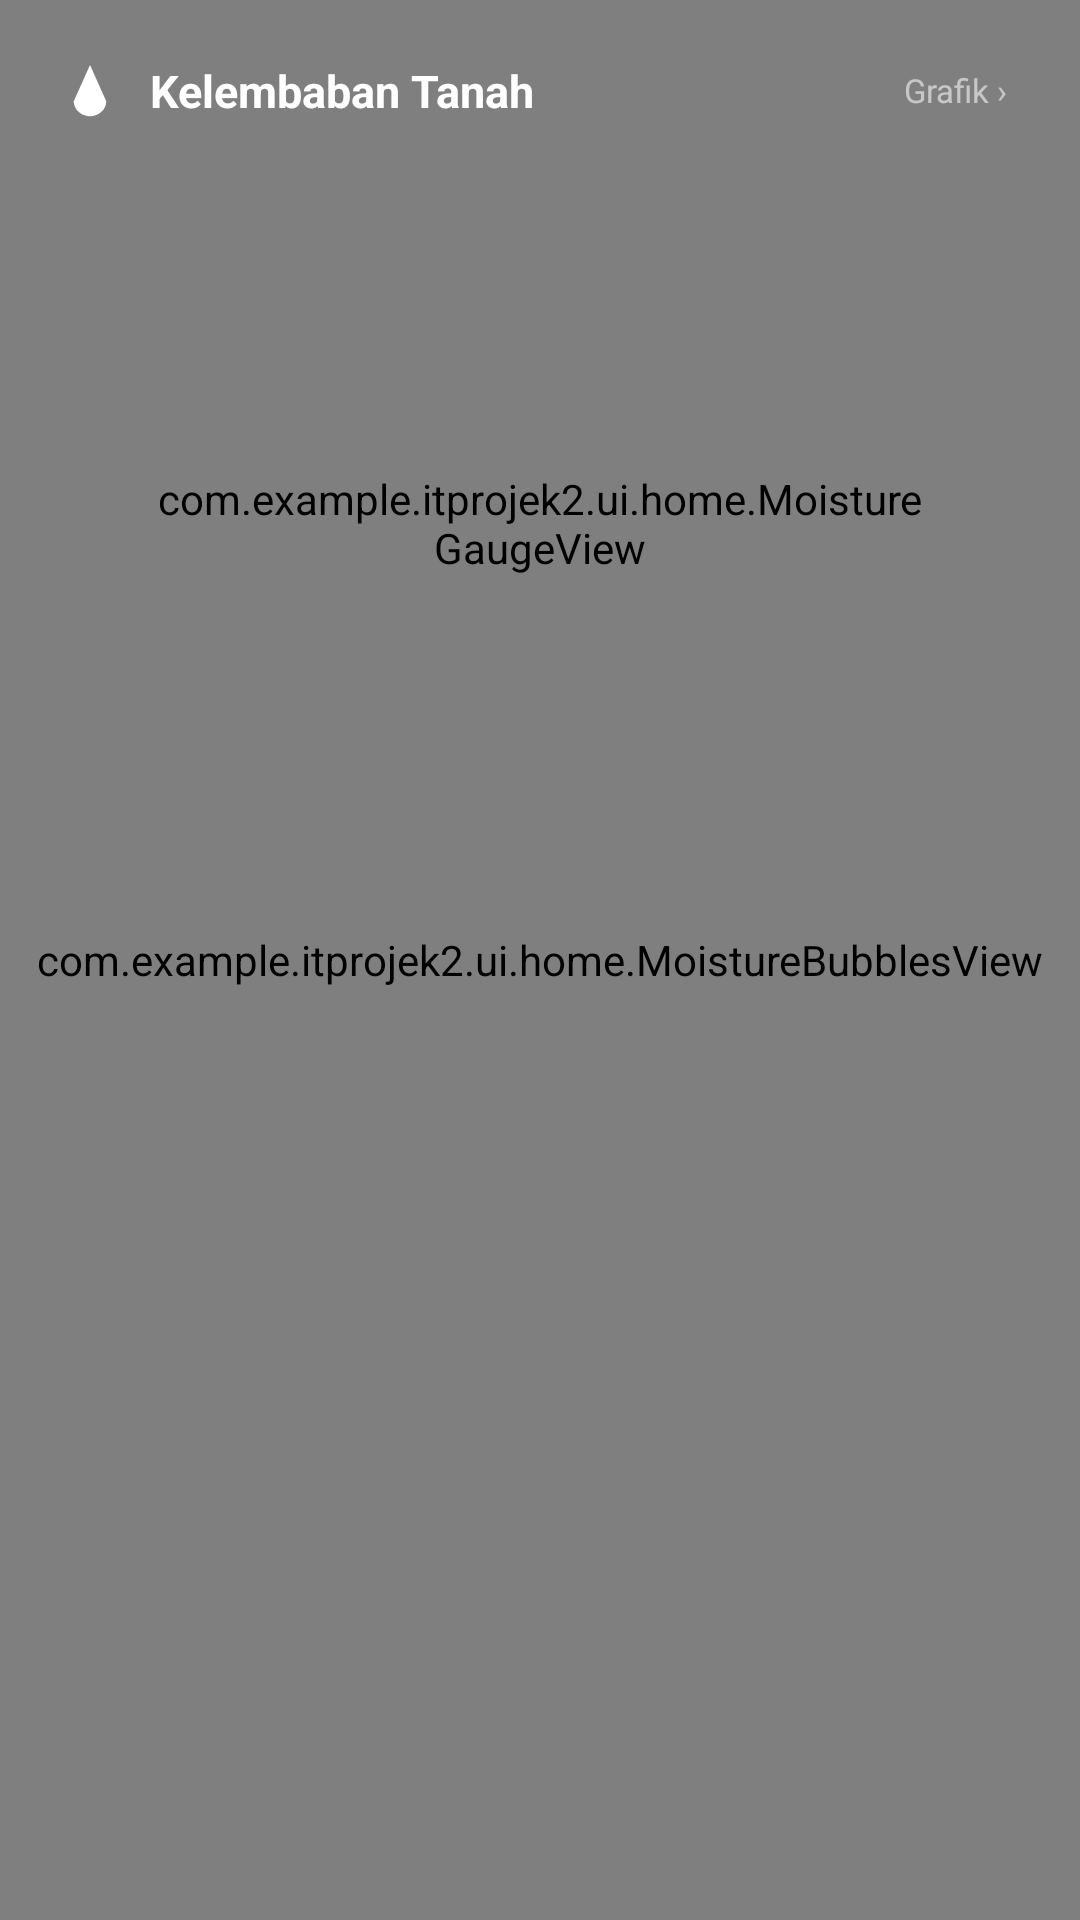

Named icons in this screenshot (1080 x 1920) and their centers, (x,y):
water drop: (90,91)
